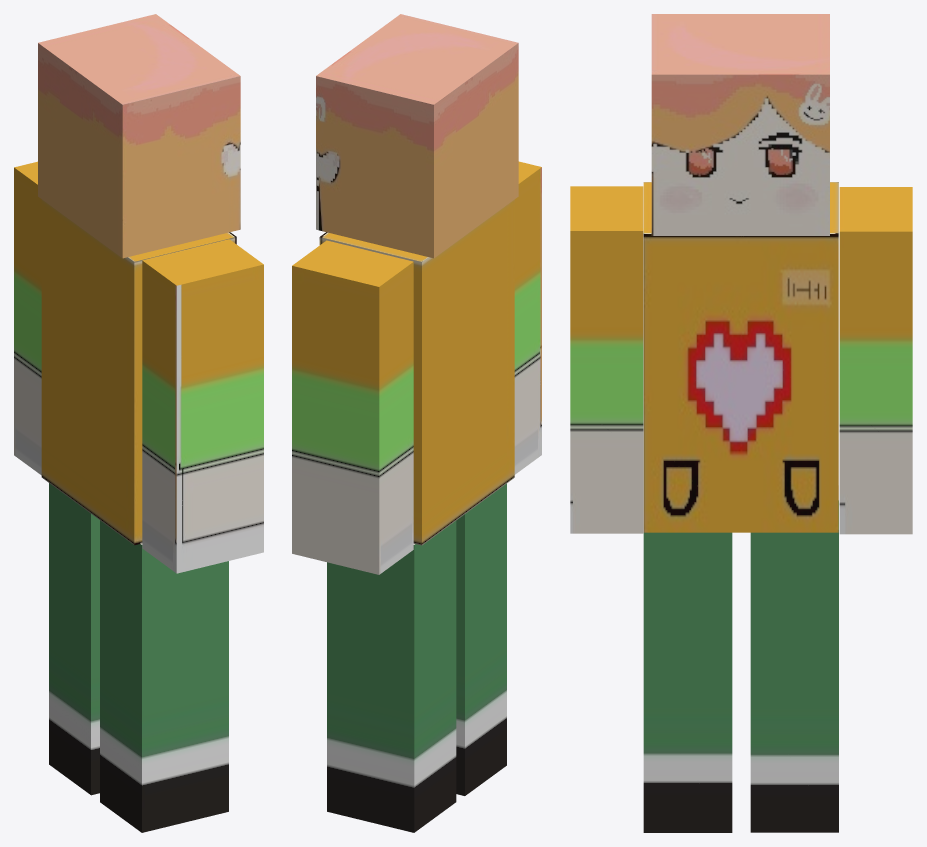
Rendered from NPC2 橘.fbx.
3 views of the same model, side by side, from view 1: azimuth 30°, elevation 25°; view 2: azimuth 150°, elevation 25°; view 3: azimuth 270°, elevation 25° (orthographic). The views are drawn at different scales.
Parts seen in each view (by area): view 1: 身體; view 2: 身體; view 3: 身體.
Part boxes in pixels (bbox=[...]): 身體: bbox=[14, 14, 263, 832]; 身體: bbox=[292, 14, 541, 832]; 身體: bbox=[570, 14, 912, 832].
Size of the model in its own units: 0.5697 by 1.36 by 3.36.
1 material, 1 textured.
